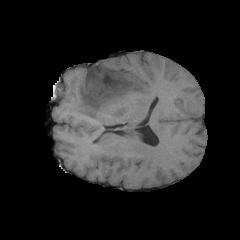glioma: (68, 63, 153, 124)
